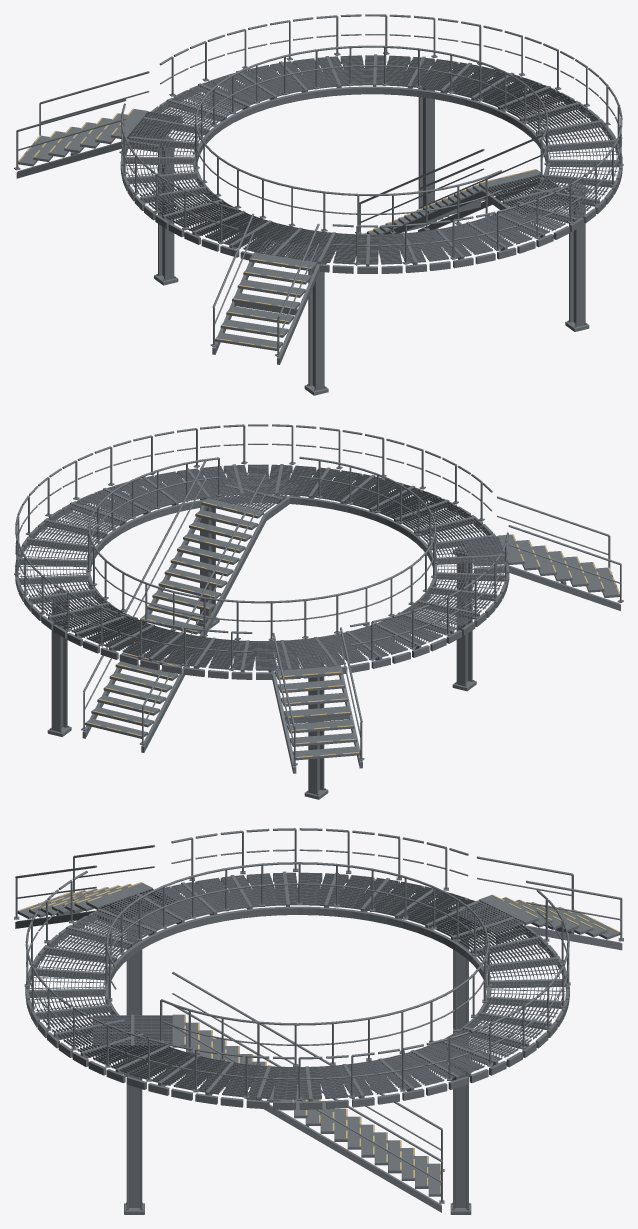
The model's file is BN_W02_ServiceDeck.fbx.
The picture shows the model from 3 angles, top to bottom: view 1: azimuth 30°, elevation 25°; view 2: azimuth 150°, elevation 25°; view 3: azimuth 270°, elevation 25°; orthographic projection. The views are drawn at different scales.
Visible parts, largest first — view 1: BN_W02_ServiceDeck; view 2: BN_W02_ServiceDeck; view 3: BN_W02_ServiceDeck.
Part boxes in pixels (bbox=[...]): BN_W02_ServiceDeck: bbox=[14, 14, 623, 395]; BN_W02_ServiceDeck: bbox=[14, 424, 623, 799]; BN_W02_ServiceDeck: bbox=[14, 828, 623, 1214].
Bounding box in the file's own units: 1253 × 480 × 1269.
